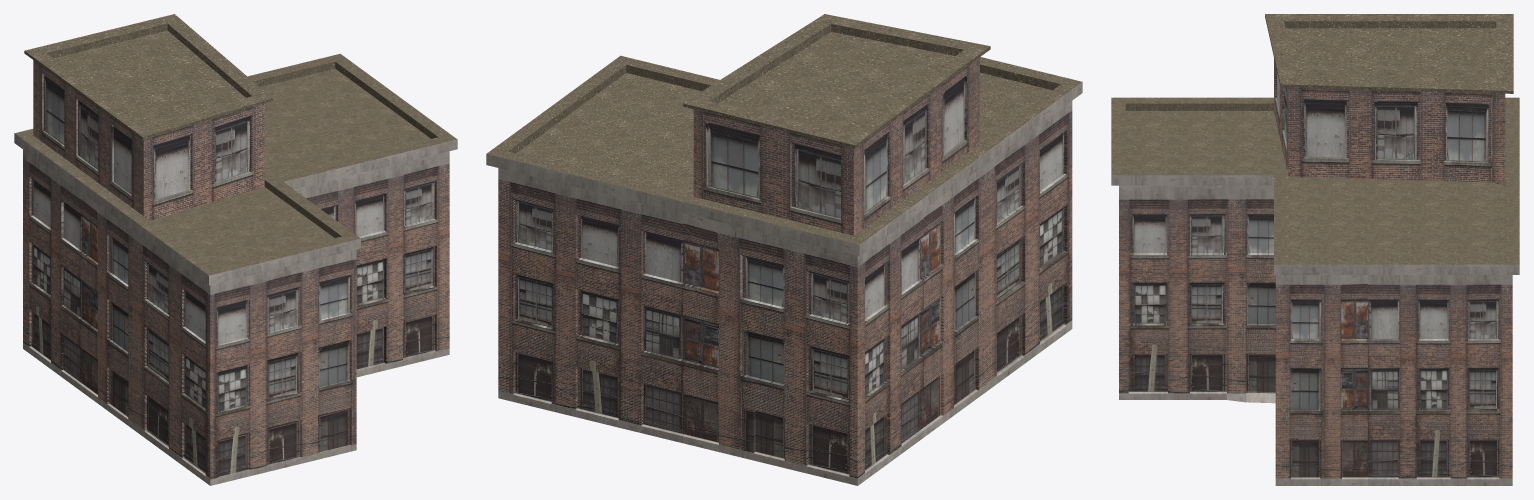
The model's file is industrial_building.glb.
3 renders of one model, left to right at view 1: azimuth 30°, elevation 25°; view 2: azimuth 150°, elevation 25°; view 3: azimuth 270°, elevation 25°, orthographic. The views are drawn at different scales.
Visible parts, largest first — view 1: Object_4, Object_5; view 2: Object_4, Object_5; view 3: Object_4, Object_5.
Boxes of the visible parts, x1,y1,x2,y2 form: Object_4: (14, 60, 457, 485); Object_5: (14, 14, 457, 275); Object_4: (486, 57, 1082, 485); Object_5: (487, 14, 1081, 244); Object_4: (1111, 58, 1519, 485); Object_5: (1111, 14, 1519, 264).
Size of the model in its own units: 3.34 by 2.91 by 3.45.
Materials: 2 (2 with a texture image).
